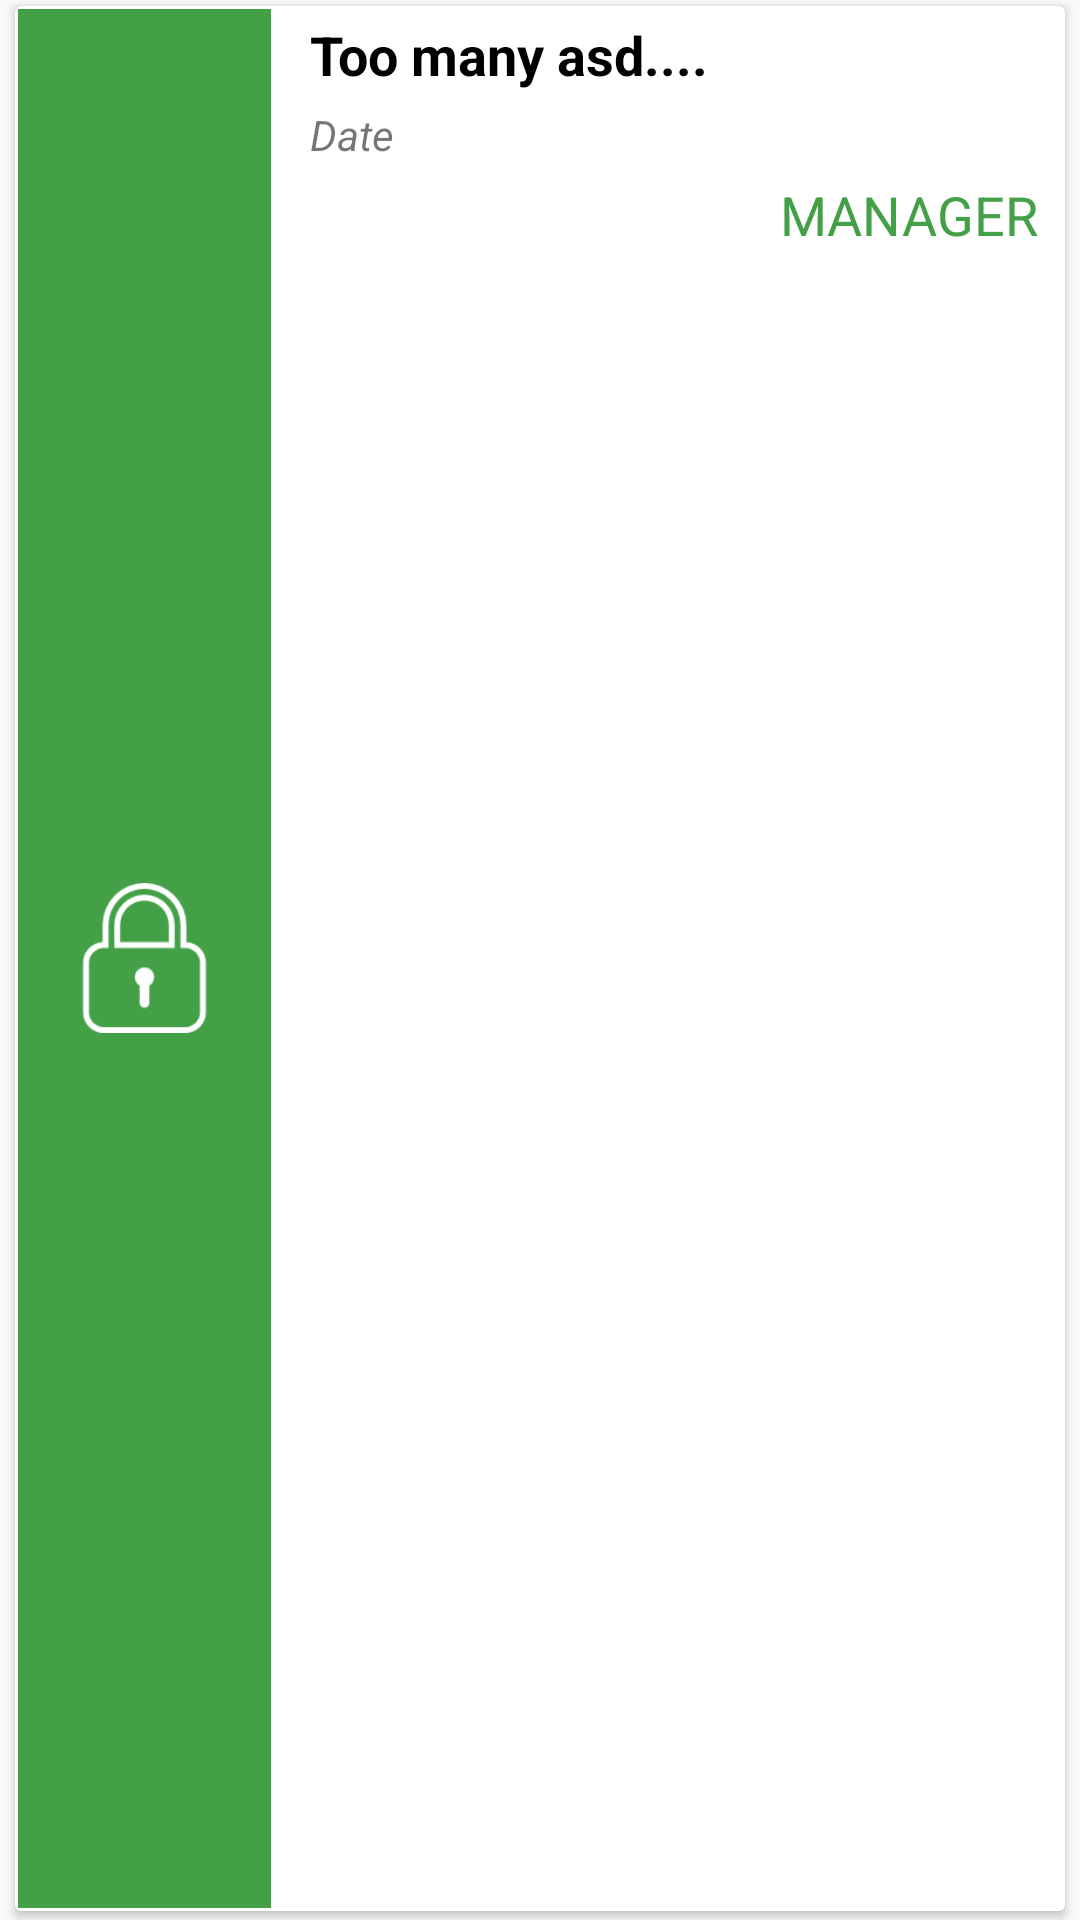

Screen size 1080×1920. Icon name, then its center in pixels as point (x, y):
padlock: point (144, 958)
